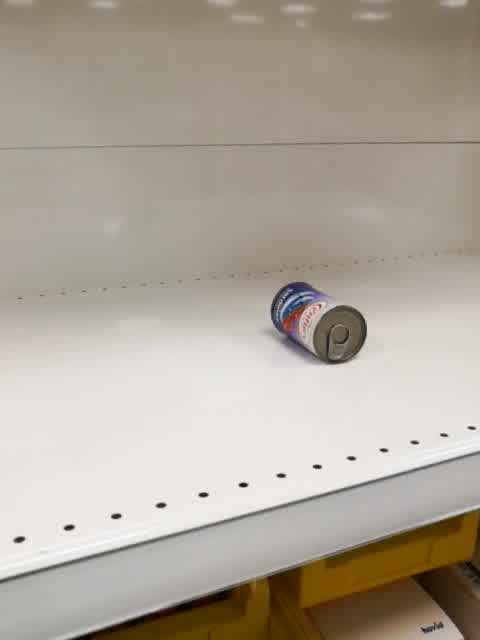sardine: (270, 281, 369, 365)
